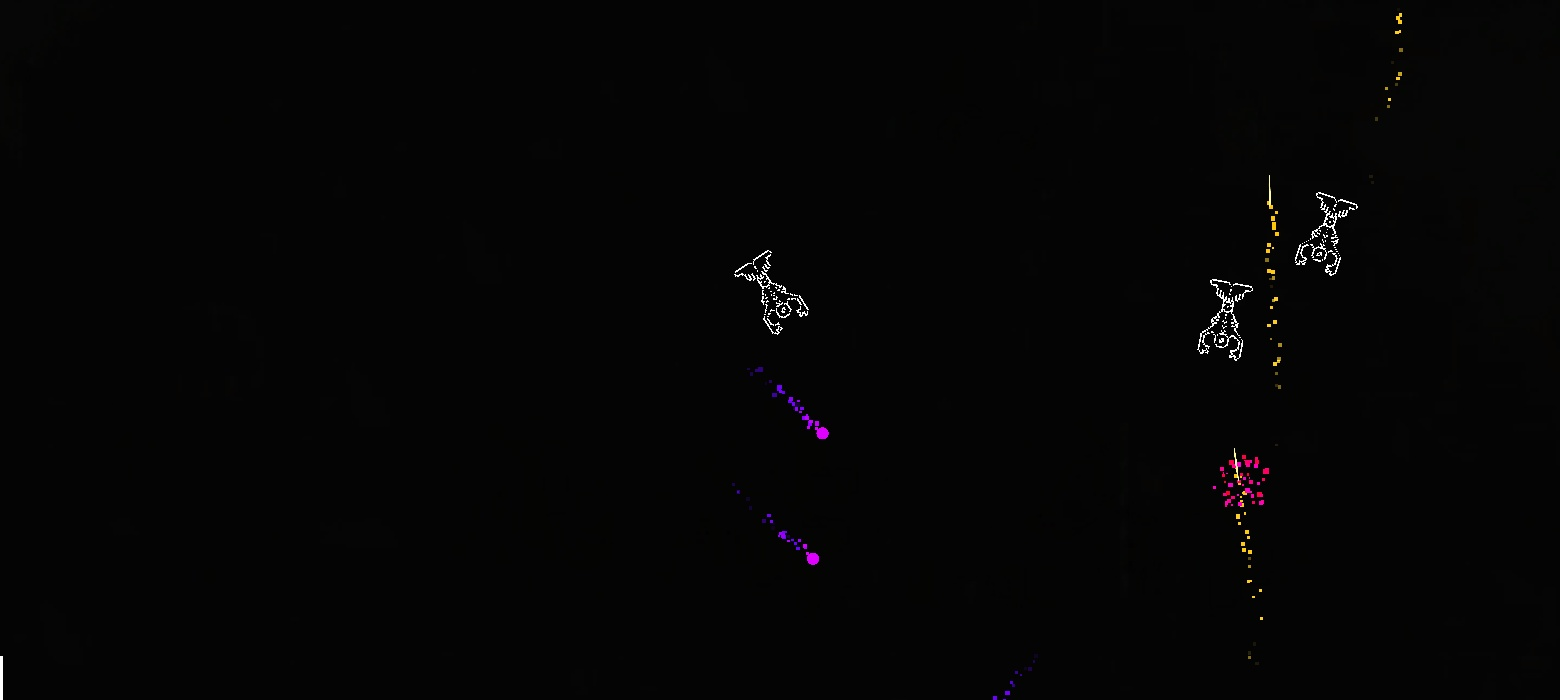enemy: (733, 249, 810, 336), (1294, 191, 1359, 277), (1196, 277, 1255, 363)
